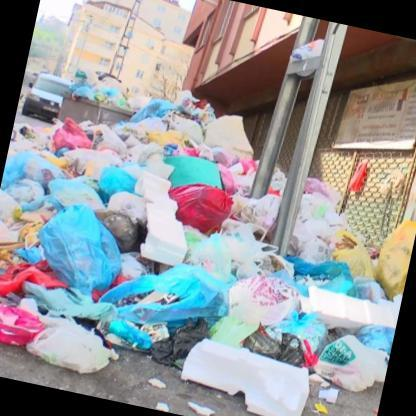Garbage: (67, 218, 298, 382), (46, 93, 222, 232), (15, 187, 136, 315), (0, 276, 38, 381)
